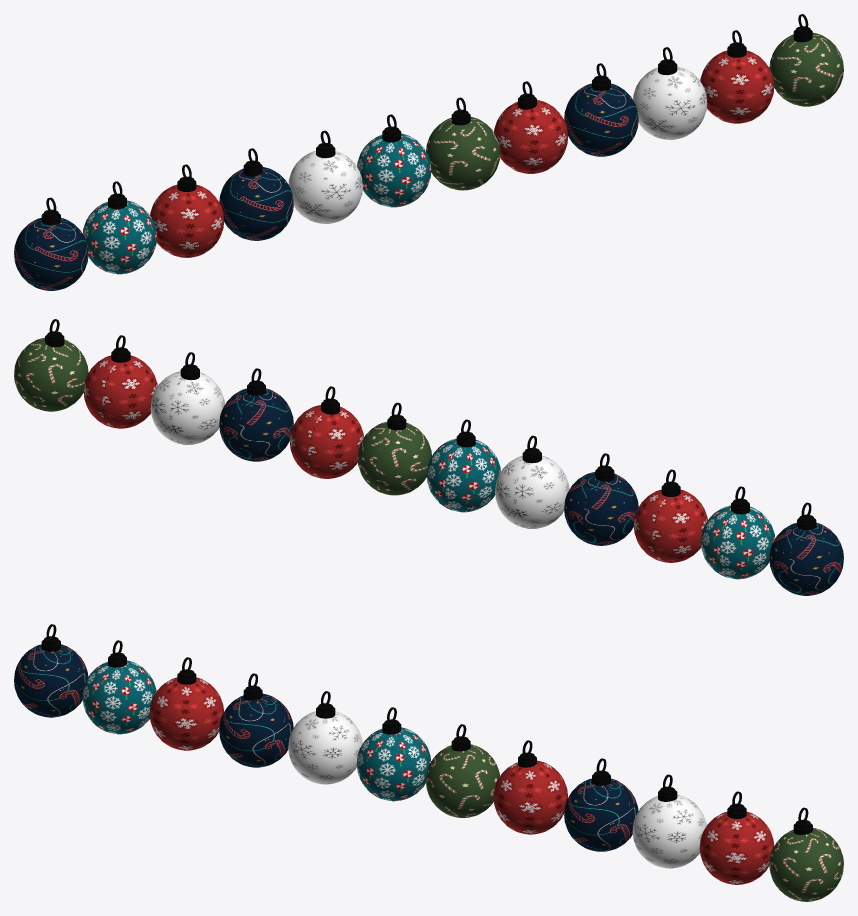
File: tira10.obj
3 renders of one model, top to bottom at view 1: azimuth 30°, elevation 25°; view 2: azimuth 150°, elevation 25°; view 3: azimuth 330°, elevation 25°, orthographic.
Visible parts, largest first — view 1: Sphere012, Sphere006, Sphere001, Sphere007, Sphere011, Sphere004, Sphere009, Sphere002, Sphere005, Sphere008, Sphere010, Sphere003; view 2: Sphere012, Sphere006, Sphere001, Sphere011, Sphere007, Sphere004, Sphere009, Sphere002, Sphere005, Sphere008, Sphere010, Sphere003; view 3: Sphere007, Sphere003, Sphere011, Sphere010, Sphere008, Sphere002, Sphere001, Sphere012, Sphere004, Sphere006, Sphere009, Sphere005.
Boxes of the visible parts, x1,y1,x2,y2 form: Sphere012: [14, 217, 88, 290]; Sphere006: [564, 83, 638, 156]; Sphere001: [288, 151, 362, 223]; Sphere007: [769, 32, 843, 106]; Sphere011: [219, 167, 293, 240]; Sphere004: [426, 117, 500, 190]; Sphere009: [82, 200, 156, 274]; Sphere002: [357, 133, 431, 207]; Sphere005: [633, 66, 707, 139]; Sphere008: [700, 50, 774, 123]; Sphere010: [150, 184, 224, 257]; Sphere003: [494, 100, 567, 173]; Sphere012: [769, 522, 843, 595]; Sphere006: [219, 388, 293, 461]; Sphere001: [495, 456, 569, 528]; Sphere011: [564, 472, 638, 545]; Sphere007: [14, 337, 88, 411]; Sphere004: [357, 422, 431, 495]; Sphere009: [701, 505, 775, 579]; Sphere002: [426, 438, 500, 512]; Sphere005: [150, 371, 224, 444]; Sphere008: [83, 355, 157, 428]; Sphere010: [633, 489, 707, 562]; Sphere003: [290, 405, 363, 478]; Sphere007: [769, 828, 843, 901]; Sphere003: [493, 760, 567, 834]; Sphere011: [219, 693, 293, 767]; Sphere010: [149, 677, 223, 750]; Sphere008: [699, 811, 774, 884]; Sphere002: [356, 727, 431, 801]; Sphere001: [288, 711, 362, 784]; Sphere012: [14, 644, 88, 717]; Sphere004: [426, 744, 499, 817]; Sphere006: [564, 778, 638, 851]; Sphere009: [82, 660, 156, 734]; Sphere005: [632, 794, 706, 868].
Size of the model in its own units: 127 by 13.16 by 10.
6 materials, 6 textured.
